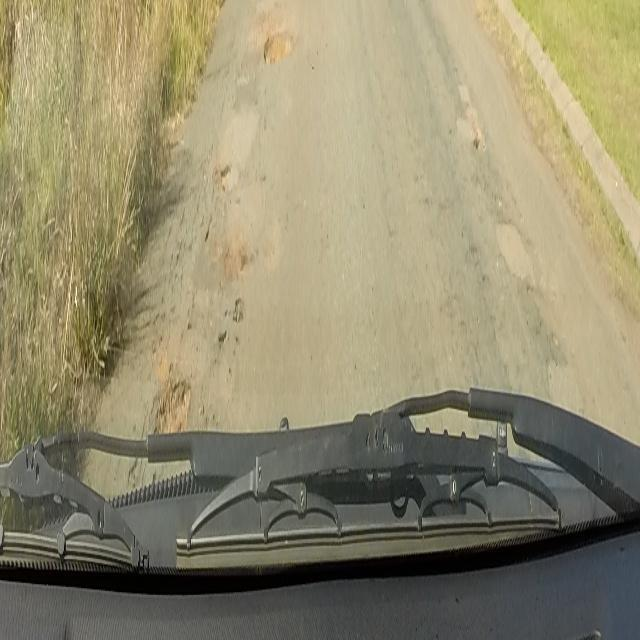pothole: (154, 382, 190, 430), (262, 27, 294, 72)
